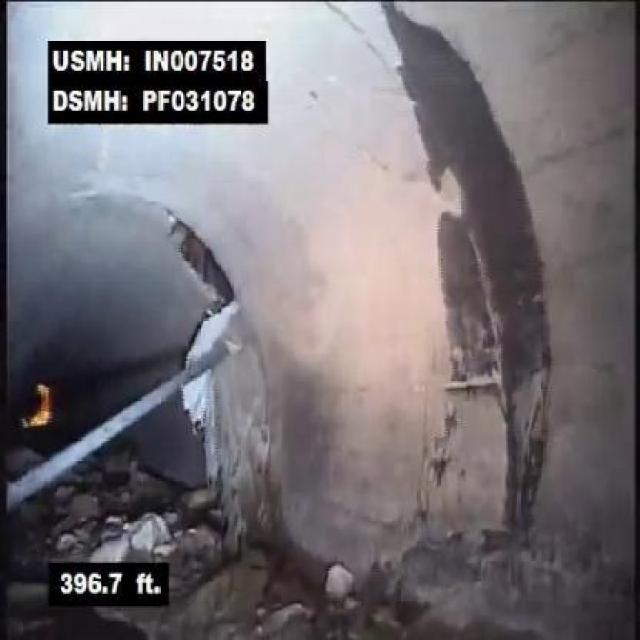Debris: (60, 456, 214, 562)
Utility intrusion: (9, 303, 257, 522)
